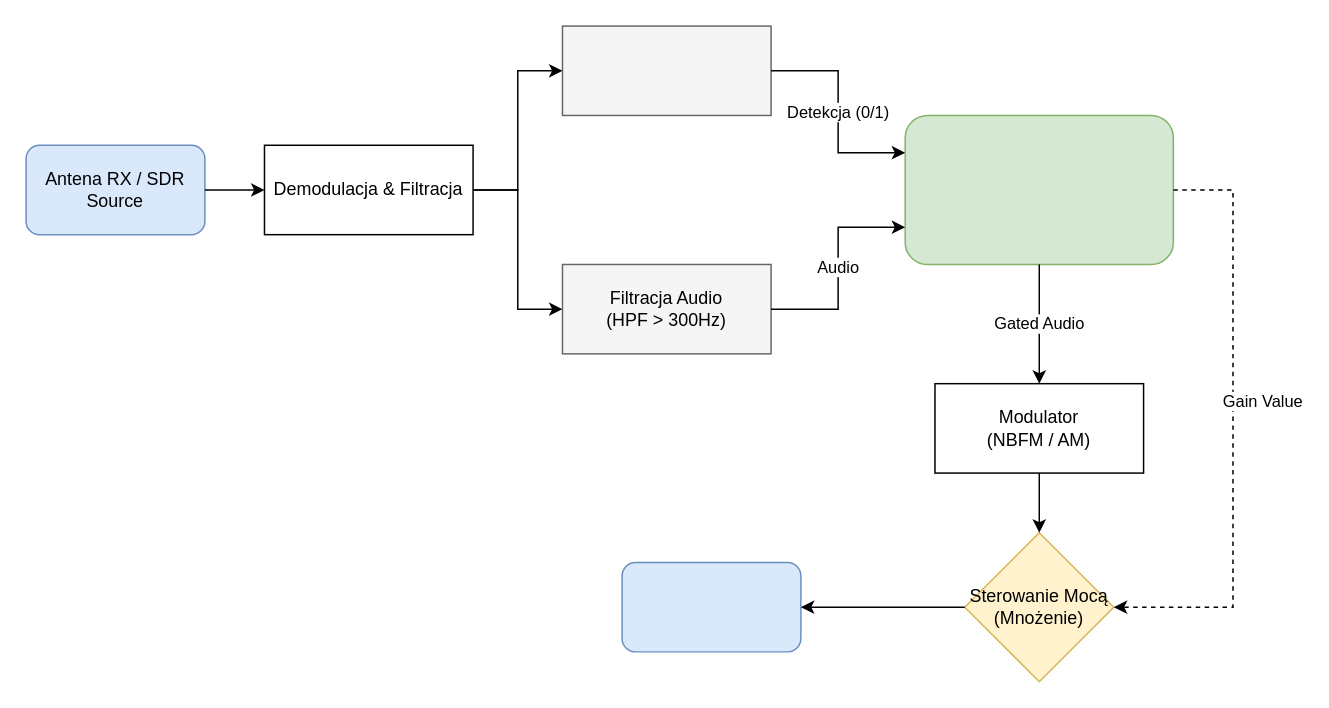
This 1329x708 diagram has some shape labels left out. Each missing label, with the centre of its shape:
"Antena TX / SDR Sink" belongs at pixel 711 606.
"Filtracja CTCSS/Tonów (LPF < 300Hz)" belongs at pixel 666 70.
"LOGIKA STERUJĄCA (Embedded Python Block) Squelch & Power Latch" belongs at pixel 1038 189.
